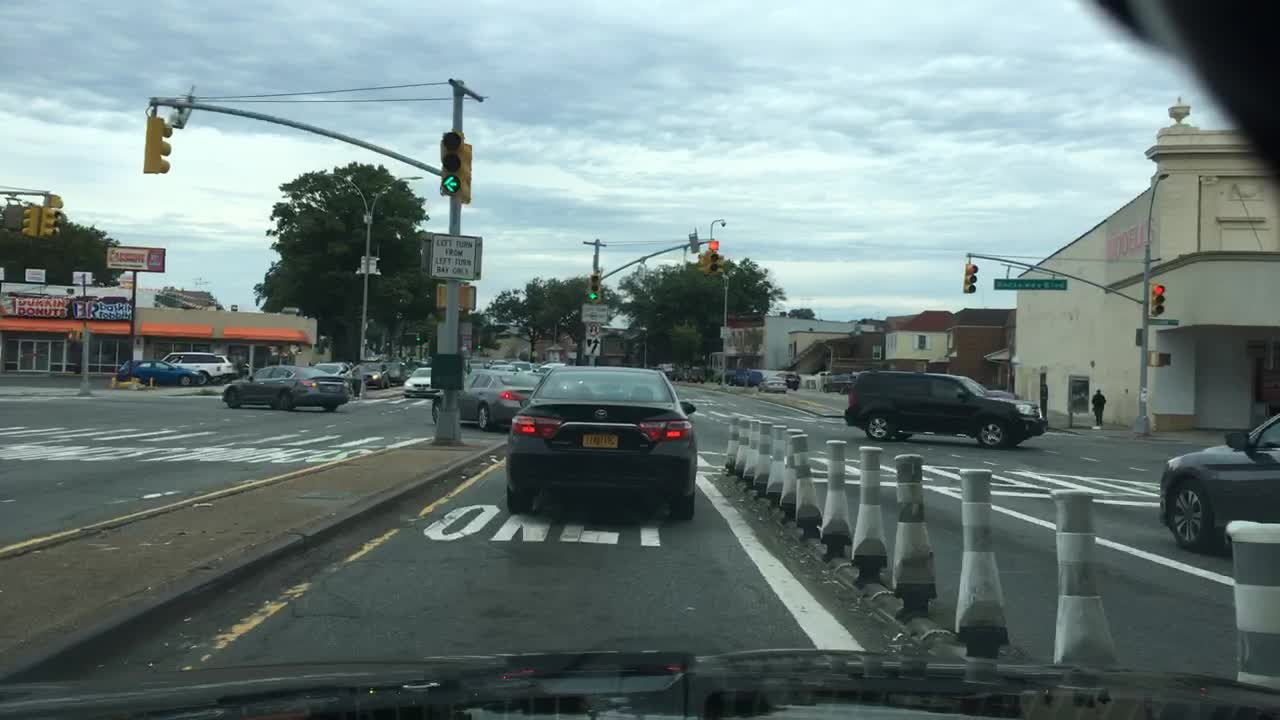car: (503, 364, 697, 521), (843, 366, 1049, 450), (1156, 411, 1277, 554), (430, 368, 538, 431), (221, 362, 353, 412), (158, 350, 235, 385), (115, 359, 199, 385), (310, 361, 355, 399), (402, 366, 444, 400), (349, 362, 391, 388), (821, 373, 852, 394), (381, 360, 408, 384), (757, 375, 788, 395), (727, 370, 761, 386), (773, 372, 800, 390), (532, 363, 568, 375), (683, 368, 706, 384), (508, 359, 535, 372), (717, 372, 731, 385), (534, 359, 558, 366), (666, 371, 682, 381), (491, 358, 507, 367), (815, 369, 832, 377), (483, 358, 492, 367), (507, 358, 522, 363)
person: (1090, 388, 1106, 427), (1037, 382, 1048, 420)
traffic light: (143, 116, 173, 174), (439, 131, 463, 194), (461, 140, 472, 205), (39, 206, 58, 238), (1149, 281, 1164, 317), (21, 209, 39, 238), (962, 262, 977, 294), (458, 284, 476, 310), (1147, 351, 1171, 366), (588, 273, 599, 303), (708, 241, 718, 273), (437, 283, 448, 307), (48, 194, 64, 207), (74, 330, 82, 341)
traffic sign: (992, 277, 1067, 291), (3, 204, 25, 231), (581, 304, 607, 322), (584, 336, 601, 356), (475, 235, 482, 279), (359, 255, 375, 274), (71, 270, 91, 284), (1148, 318, 1178, 324), (585, 323, 600, 334), (1134, 326, 1142, 346), (720, 325, 729, 338), (531, 349, 538, 358)
